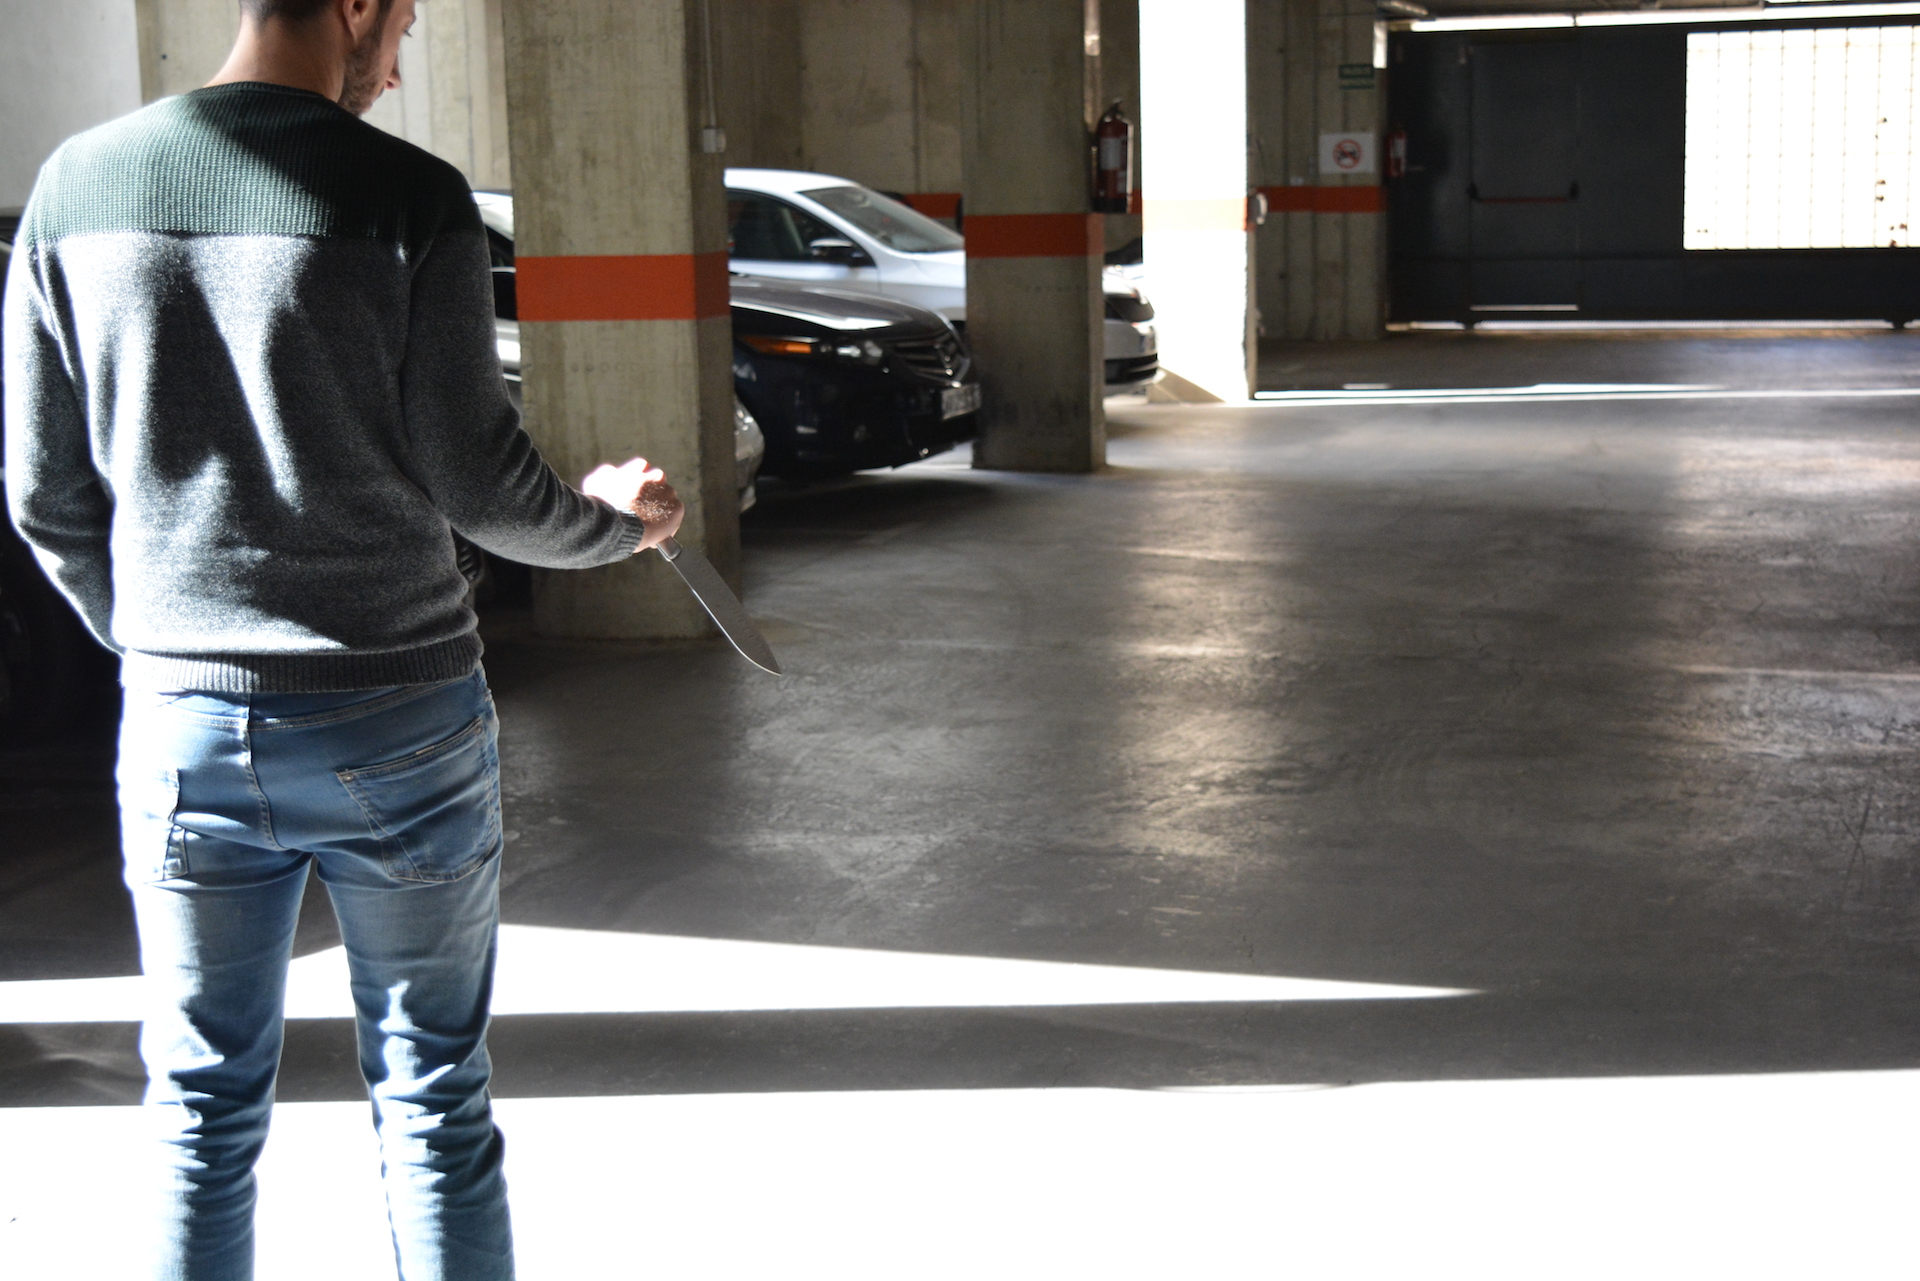knife: (646, 519, 793, 688)
